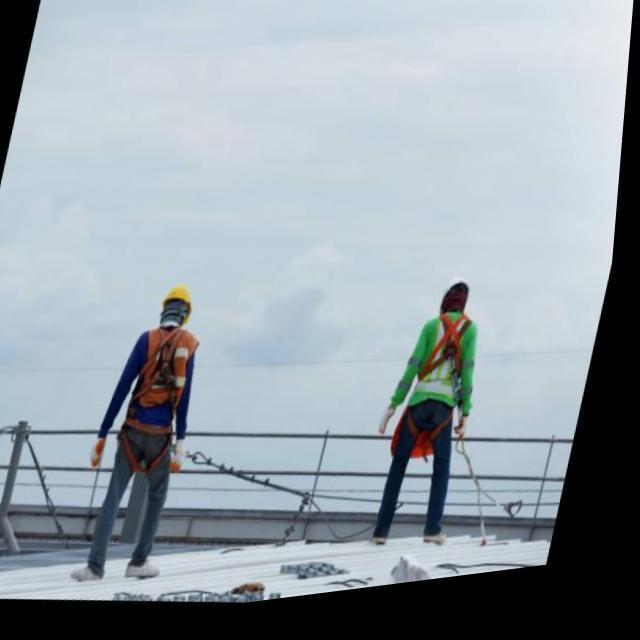Harness: (419, 314, 473, 382)
